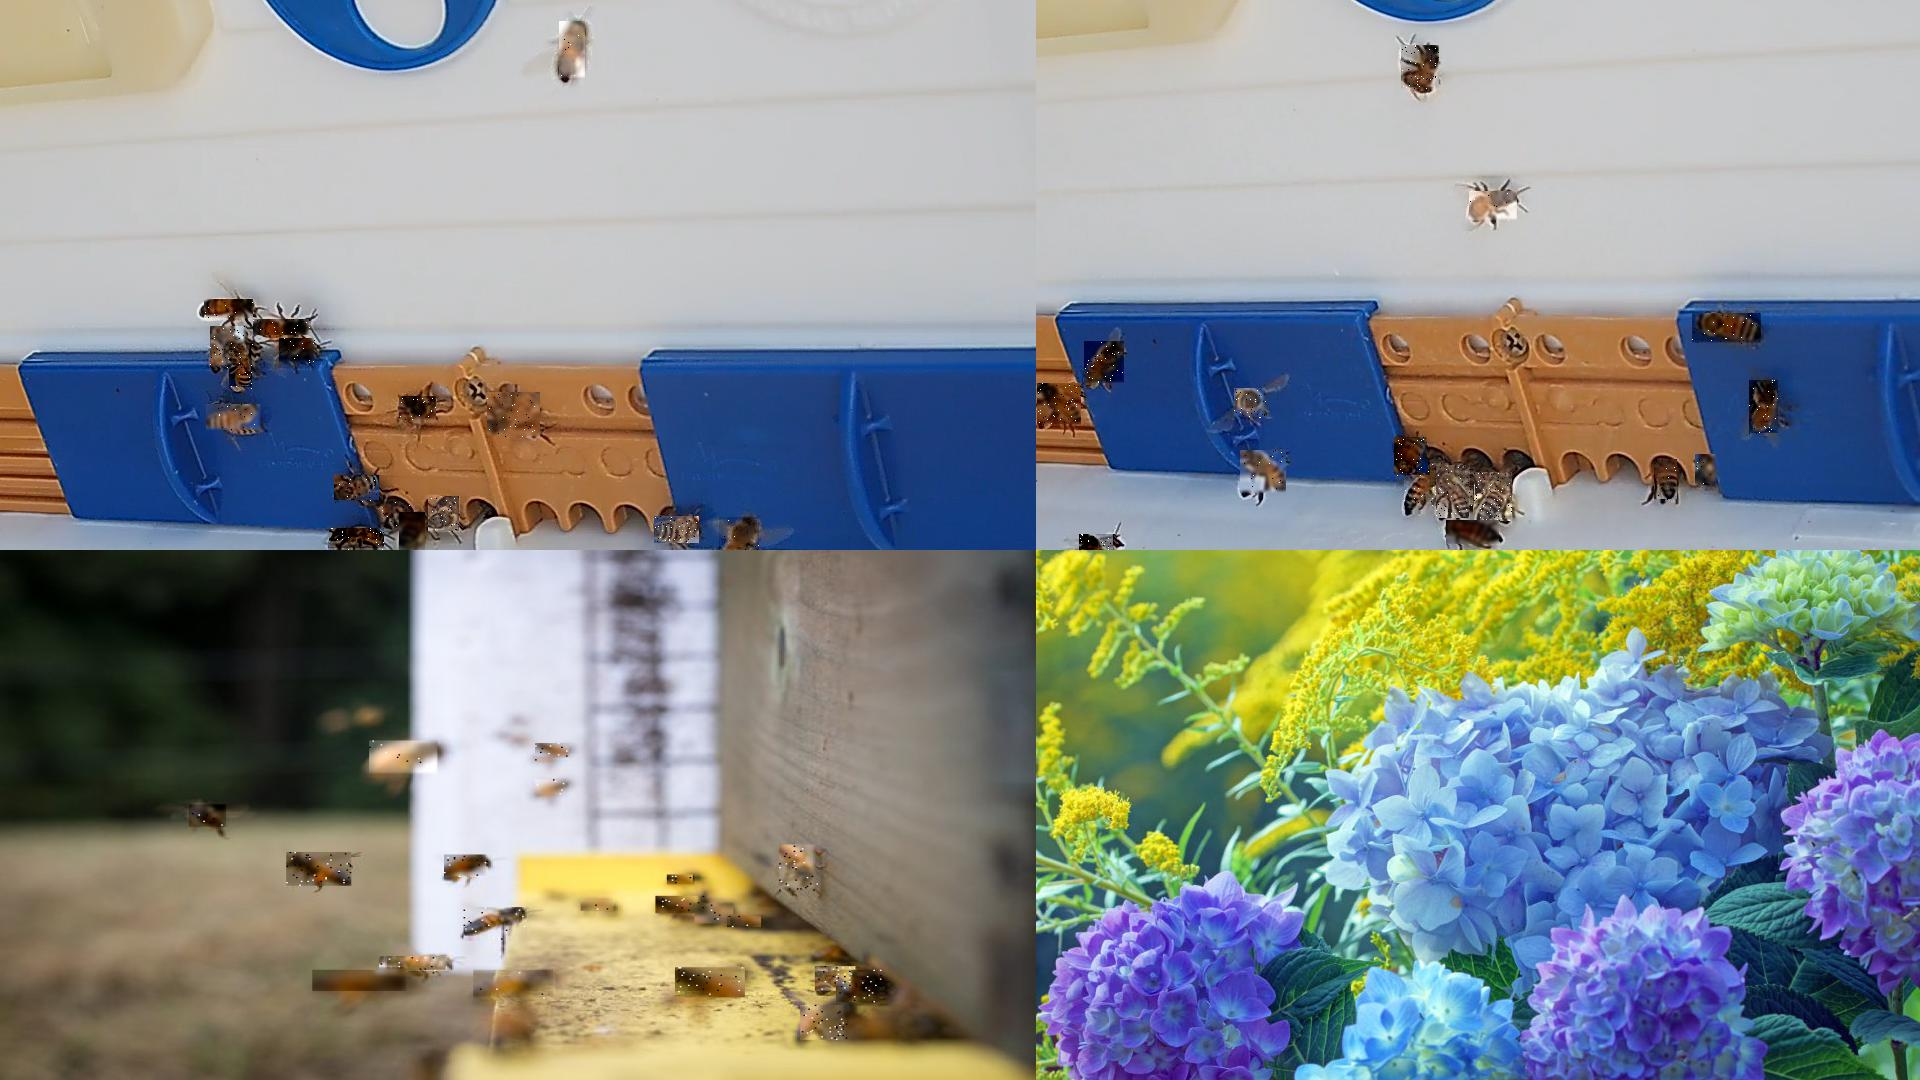bee: (475, 971, 559, 1002), (370, 741, 439, 778), (487, 393, 541, 439), (675, 967, 747, 999), (1692, 314, 1762, 346), (464, 908, 528, 942), (313, 970, 411, 992), (1240, 451, 1287, 496), (1437, 465, 1474, 519), (1037, 384, 1082, 427), (781, 846, 821, 893), (1084, 342, 1125, 386), (1401, 46, 1440, 92), (801, 1005, 850, 1041), (1749, 381, 1779, 437), (211, 327, 249, 370), (837, 970, 884, 1004), (207, 405, 264, 433), (559, 22, 586, 81), (1469, 192, 1518, 223), (1447, 521, 1502, 547), (335, 476, 384, 505), (380, 957, 454, 976), (1395, 438, 1430, 478), (429, 497, 464, 536), (719, 517, 761, 549), (654, 516, 700, 544), (328, 528, 386, 549), (230, 345, 256, 391), (815, 966, 858, 993), (1654, 460, 1678, 504), (204, 300, 254, 321), (446, 856, 491, 879), (1235, 389, 1268, 420), (399, 397, 437, 423), (254, 319, 312, 336), (280, 339, 317, 365), (657, 896, 707, 915), (189, 805, 228, 828), (695, 904, 735, 925), (382, 502, 411, 529), (536, 744, 571, 763), (1079, 534, 1118, 549), (536, 779, 568, 796), (728, 915, 769, 928), (582, 898, 618, 912), (668, 875, 701, 886)
pollenbee: (286, 852, 353, 887), (1404, 463, 1447, 515), (1474, 472, 1513, 522), (399, 512, 427, 549), (1696, 455, 1719, 486)
